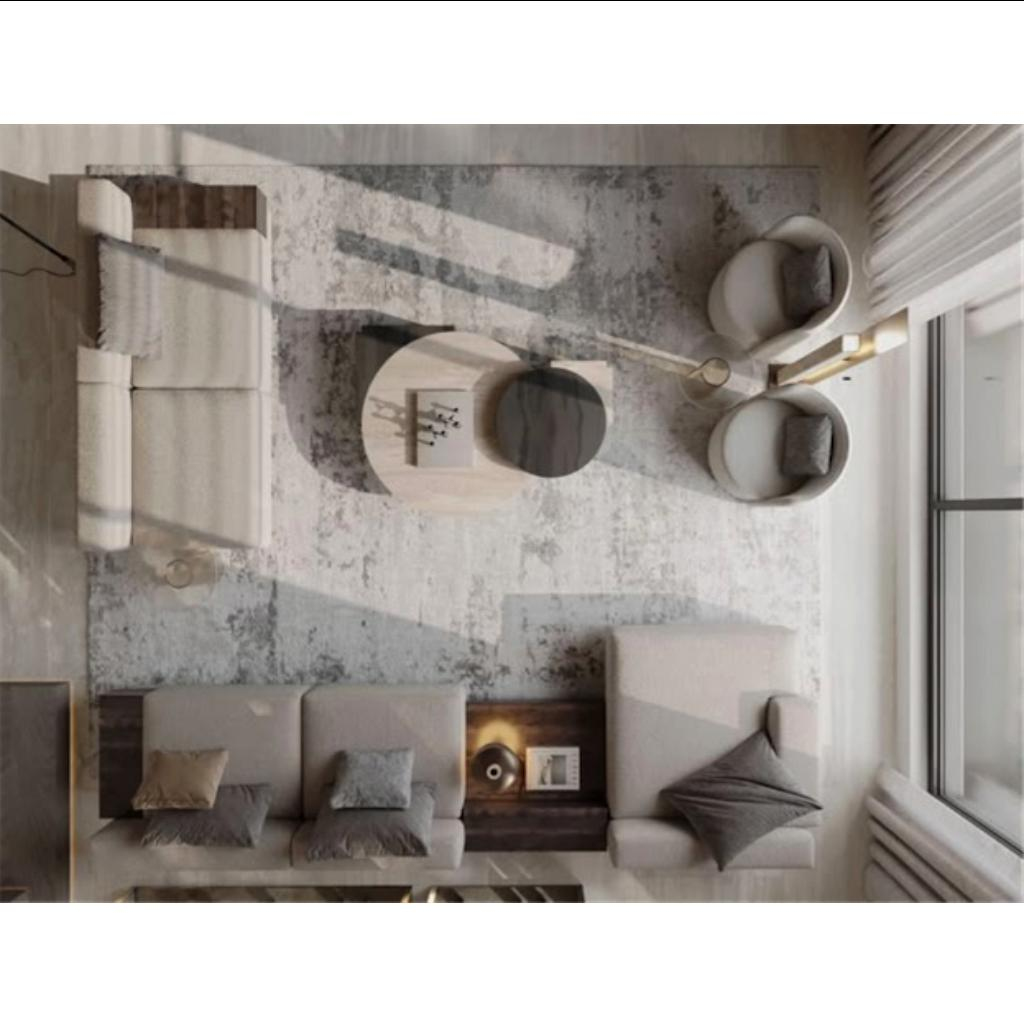bookshelf: (137, 878, 587, 902)
cabinet: (0, 681, 68, 901)
chair: (725, 213, 853, 333), (726, 386, 852, 504)
chair-bed: (613, 622, 821, 870)
coffee table: (359, 324, 613, 514), (666, 335, 716, 395)
floor lamp: (19, 222, 71, 278), (770, 339, 810, 381)
rug: (75, 164, 825, 872)
side table: (467, 700, 603, 852)
sofa: (88, 686, 462, 874), (83, 174, 263, 544)
window: (1002, 504, 1022, 900), (1003, 124, 1023, 498)
